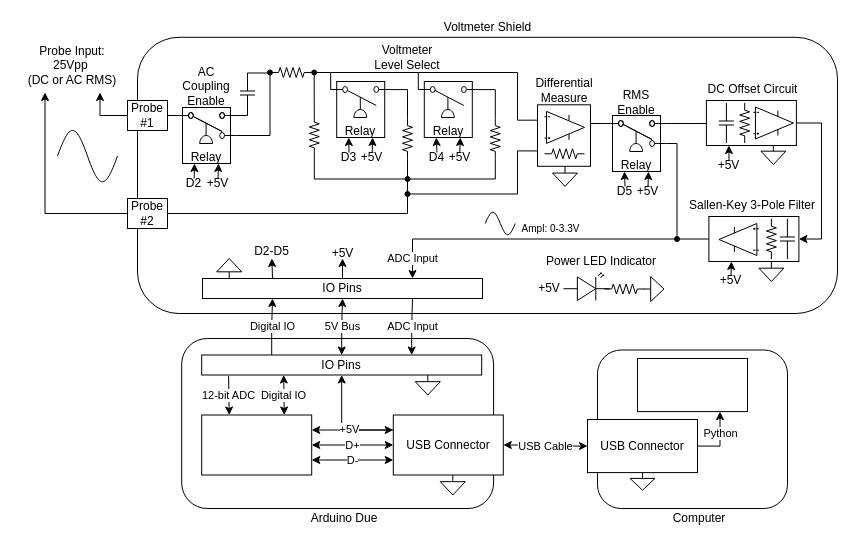
This 855x546 diagram has some shape labels left out. The centre of each missing label's shape, as x and y in pixels:
"GUI Control and Data Visualization" goes at pixel 692 385.
"SAM Microcontroller" goes at pixel 256 444.
